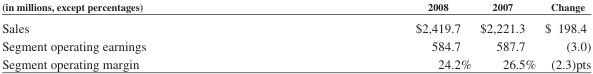table: (1, 0, 590, 71)
table column: (1, 0, 280, 71), (280, 0, 475, 71), (475, 0, 539, 71), (539, 0, 590, 71)
table column header: (1, 0, 590, 16)
table row: (1, 16, 590, 36), (1, 36, 590, 54), (1, 54, 590, 71), (1, 0, 590, 16)
